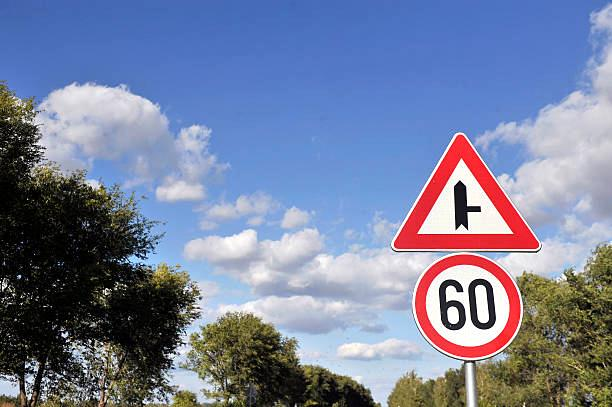Speed Limit -60-: (412, 252, 525, 361)
